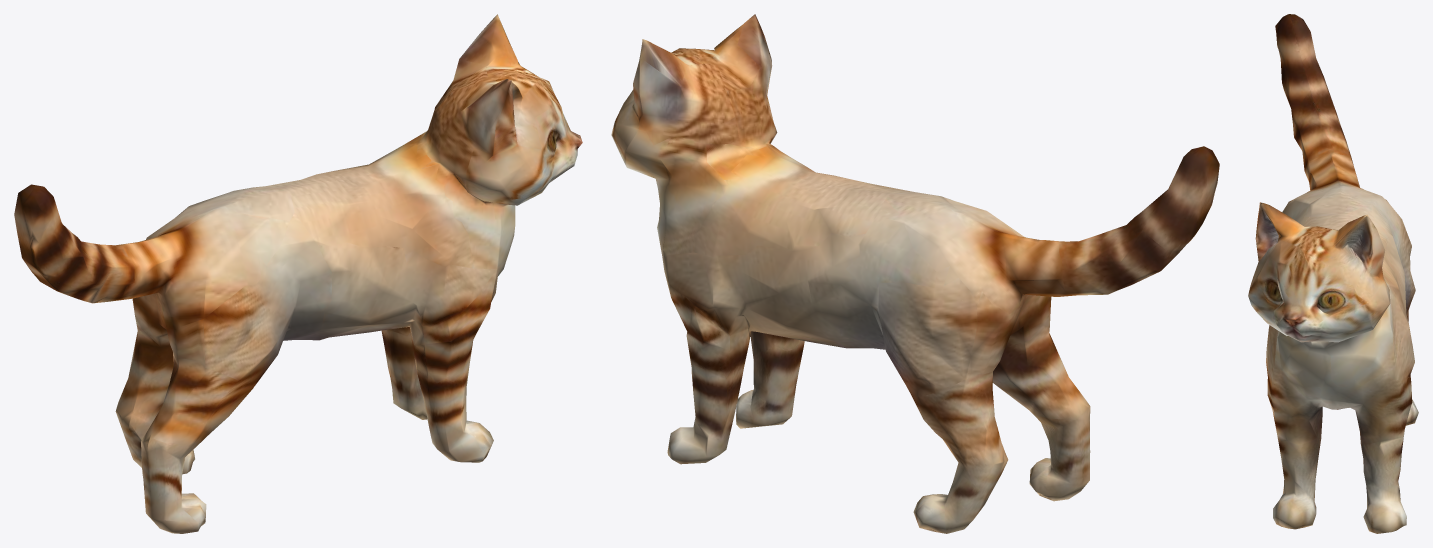
File: INGOTLOAF-lo.glb
The picture shows the model from 3 angles, left to right: view 1: azimuth 30°, elevation 25°; view 2: azimuth 150°, elevation 25°; view 3: azimuth 270°, elevation 25°; orthographic projection. The views are drawn at different scales.
Parts seen in each view (by area): view 1: fit; view 2: fit; view 3: fit.
Part boxes in pixels (x1=…): fit: x1=14, y1=14, x2=582, y2=533; fit: x1=611, y1=14, x2=1219, y2=533; fit: x1=1248, y1=14, x2=1418, y2=533.
Size of the model in its own units: 1.5 by 1 by 0.4568.
1 material, 1 textured.
